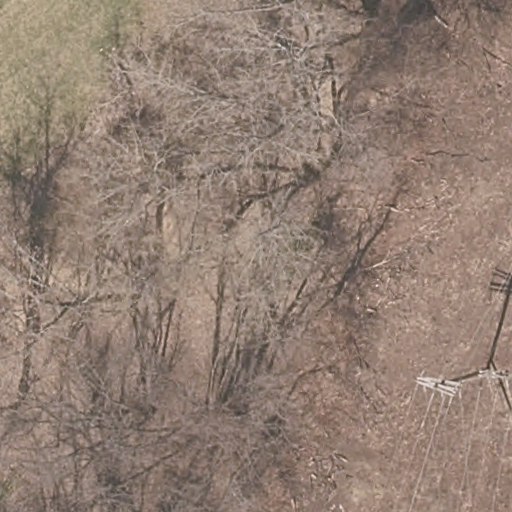DT: (416, 372, 462, 397), (477, 363, 512, 384)
